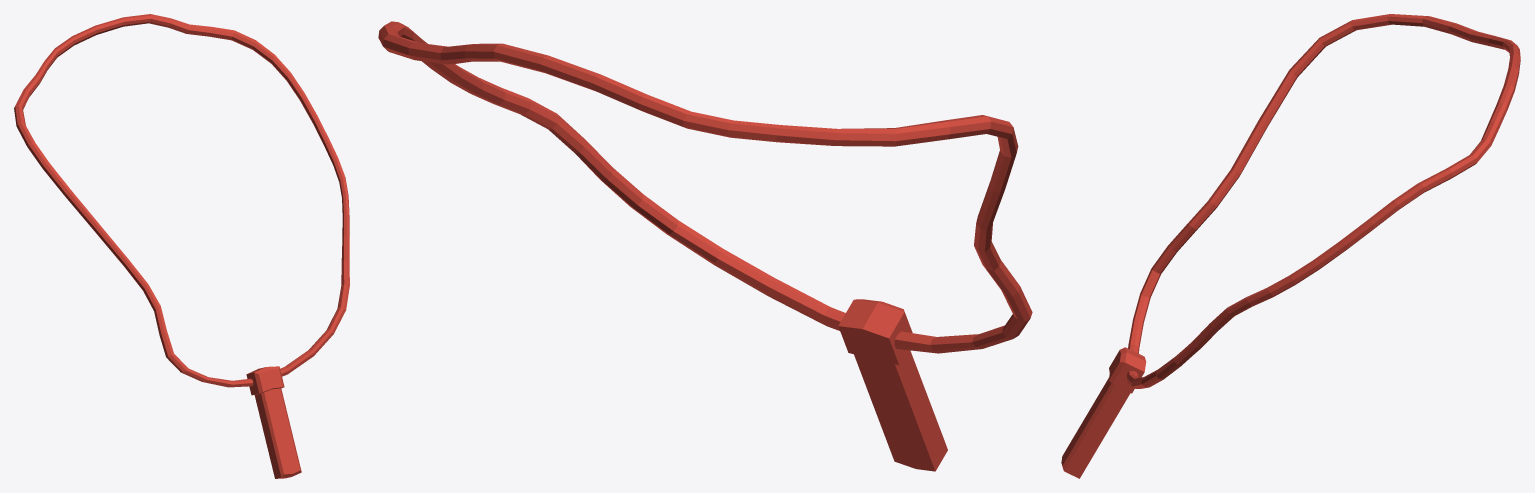
File: collar2.glb
3 renders of one model, left to right at view 1: azimuth 30°, elevation 25°; view 2: azimuth 150°, elevation 25°; view 3: azimuth 270°, elevation 25°, orthographic. The views are drawn at different scales.
Visible parts, largest first — view 1: Necklace2_Plane.002; view 2: Necklace2_Plane.002; view 3: Necklace2_Plane.002.
Part boxes in pixels (x1,y1,x2,y2): Necklace2_Plane.002: (14, 14, 349, 478); Necklace2_Plane.002: (378, 21, 1032, 471); Necklace2_Plane.002: (1061, 14, 1520, 478).
Size of the model in its own units: 0.91 by 1 by 1.01.
